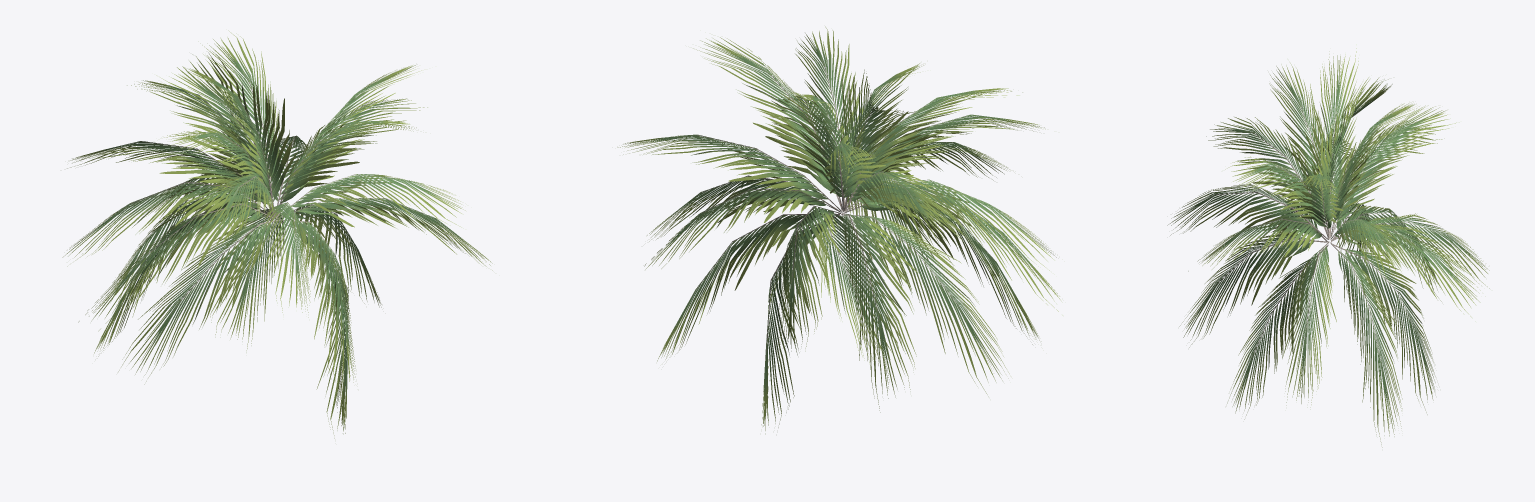
File: m_palm_p2_12_leaf_0.001_lev2.glb
3 views of the same model, side by side, from view 1: azimuth 30°, elevation 25°; view 2: azimuth 150°, elevation 25°; view 3: azimuth 270°, elevation 25° (orthographic). The views are drawn at different scales.
Parts seen in each view (by area): view 1: m_palm_p2_12_leaf_0.001_lev2; view 2: m_palm_p2_12_leaf_0.001_lev2; view 3: m_palm_p2_12_leaf_0.001_lev2.
Boxes of the visible parts, x1,y1,x2,y2 form: m_palm_p2_12_leaf_0.001_lev2: (62, 30, 492, 438); m_palm_p2_12_leaf_0.001_lev2: (617, 26, 1062, 434); m_palm_p2_12_leaf_0.001_lev2: (1167, 44, 1489, 447).
Size of the model in its own units: 4.1 by 3.32 by 3.08.
Materials: 1 (1 with a texture image).
